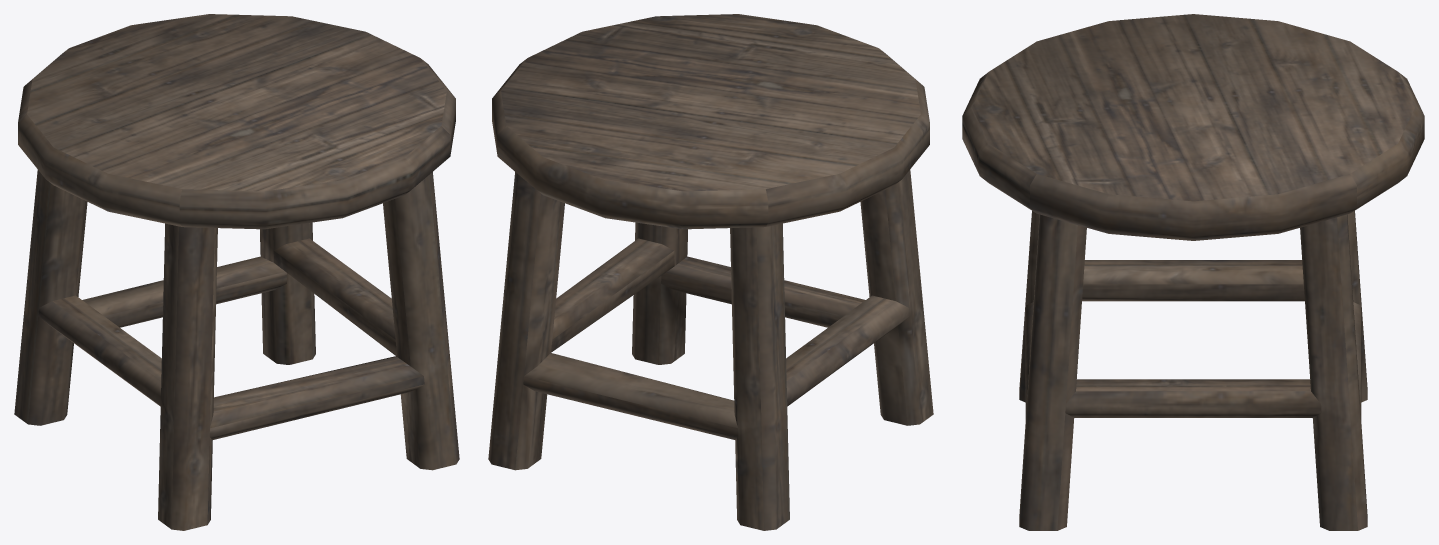
File: stool_dark.glb
The picture shows the model from 3 angles, left to right: view 1: azimuth 30°, elevation 25°; view 2: azimuth 150°, elevation 25°; view 3: azimuth 270°, elevation 25°; orthographic projection. The views are drawn at different scales.
Parts seen in each view (by area): view 1: Stool_Wood Planks_0; view 2: Stool_Wood Planks_0; view 3: Stool_Wood Planks_0.
Boxes of the visible parts, x1,y1,x2,y2 form: Stool_Wood Planks_0: (14, 14, 459, 530); Stool_Wood Planks_0: (488, 14, 933, 530); Stool_Wood Planks_0: (962, 14, 1424, 530).
Bounding box in the file's own units: 0.1671 × 0.1394 × 0.1671.
1 material, 1 textured.
